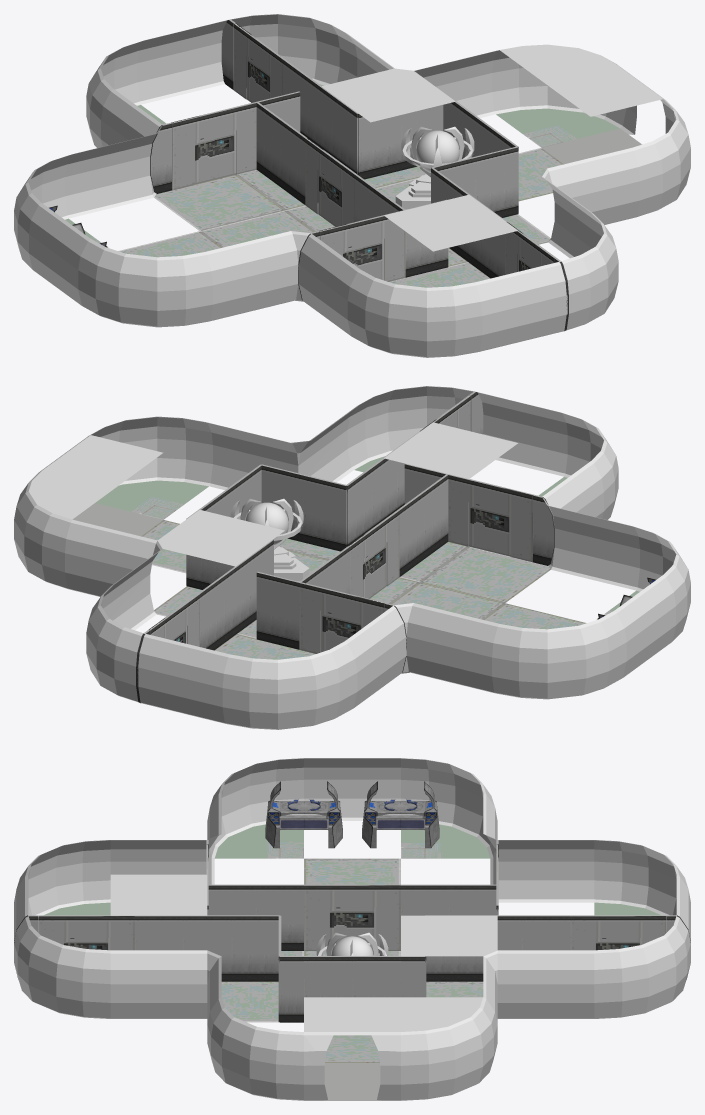
Rendered from works.glb.
3 views of the same model, one above another, from view 1: azimuth 30°, elevation 25°; view 2: azimuth 150°, elevation 25°; view 3: azimuth 270°, elevation 25° (orthographic).
Parts seen in each view (by area): view 1: Wall Outer Corner.002, Wall Outer Bend.004, Wall Outer Bend.005, Wall Outer Corner.003, Wall Outer Corner.001, WallOuter.001, Wall Inner Door.002, WallOuter, Wall Outer Bend.001, Roof4x4, RoofWallOuterCorner, FloorWallOuterCorner.002 (+47 smaller); view 2: Wall Outer Corner.003, Wall Outer Bend.007, Wall Outer Bend.006, Wall Outer Corner.002, Wall Outer Corner, Wall Outer Corner.001, WallOuter, Wall Inner Door.003, Wall Outer Bend.003, Wall Outer Bend.002, WallOuter.001, Roof4x4 (+42 smaller); view 3: Wall Outer Corner.001, Wall Outer Corner, Wall Outer Corner.003, Wall Outer Bend.001, Wall Outer Bend.003, Wall Outer Bend, Wall Outer Bend.002, Console (×2), Wall Inner Door.004, Wall Outer Bend.004, Wall Outer Bend.007, Wall Outer Bend.005 (+36 smaller).
Boxes of the visible parts, x1,y1,x2,y2 form: Wall Outer Corner.002: (206,231,359,335); Wall Outer Bend.004: (347,269,482,357); Wall Outer Bend.005: (78,239,212,327); Wall Outer Corner.003: (65,89,162,218); Wall Outer Corner.001: (542,147,639,258); WallOuter.001: (475,261,567,351); Wall Inner Door.002: (171,102,256,190); WallOuter: (137,20,227,104); Wall Outer Bend.001: (231,14,357,85); Roof4x4: (384,194,517,251); RoofWallOuterCorner: (321,68,455,122); FloorWallOuterCorner.002: (154,174,284,230); Wall Outer Corner.003: (345,603,498,707); Wall Outer Bend.007: (222,641,357,729); Wall Outer Bend.006: (492,611,626,699); Wall Outer Corner.002: (542,461,639,590); Wall Outer Corner: (65,519,162,630); Wall Outer Corner.001: (207,405,358,489); WallOuter: (137,633,229,723); Wall Inner Door.003: (448,474,533,562); Wall Outer Bend.003: (347,386,473,469); Wall Outer Bend.002: (89,416,212,486); WallOuter.001: (477,392,567,476); Roof4x4: (384,422,517,478); Wall Outer Corner.001: (110,950,221,1024); Wall Outer Corner: (483,950,594,1024); Wall Outer Corner.003: (483,793,594,902); Wall Outer Bend.001: (594,916,690,1018); Wall Outer Bend.003: (14,916,110,1018); Wall Outer Bend: (401,997,497,1100); Wall Outer Bend.002: (207,997,303,1100); Console (×2): (265,781,439,848); Wall Inner Door.004: (304,884,400,950); Wall Outer Bend.004: (16,840,110,917); Wall Outer Bend.007: (594,840,688,917); Wall Outer Bend.005: (210,758,303,858).
Bounding box in the file's own units: 28 × 3 × 28.
5 materials, 4 textured.
